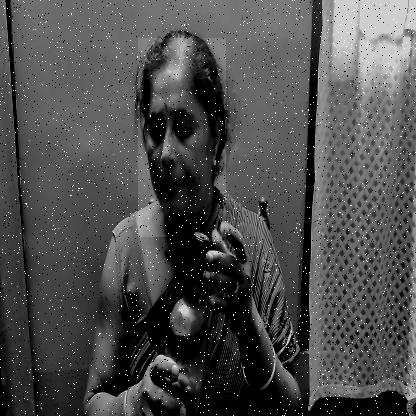Distracted: (138, 38, 226, 237)
